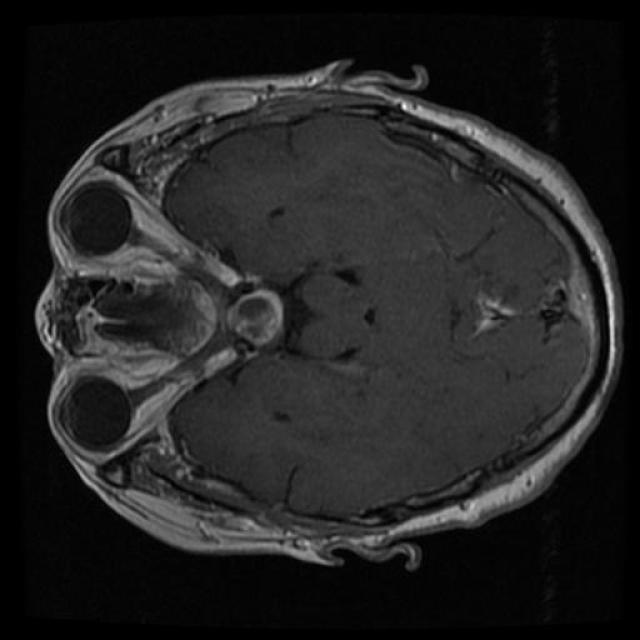Pituitary: (228, 289, 283, 349)
